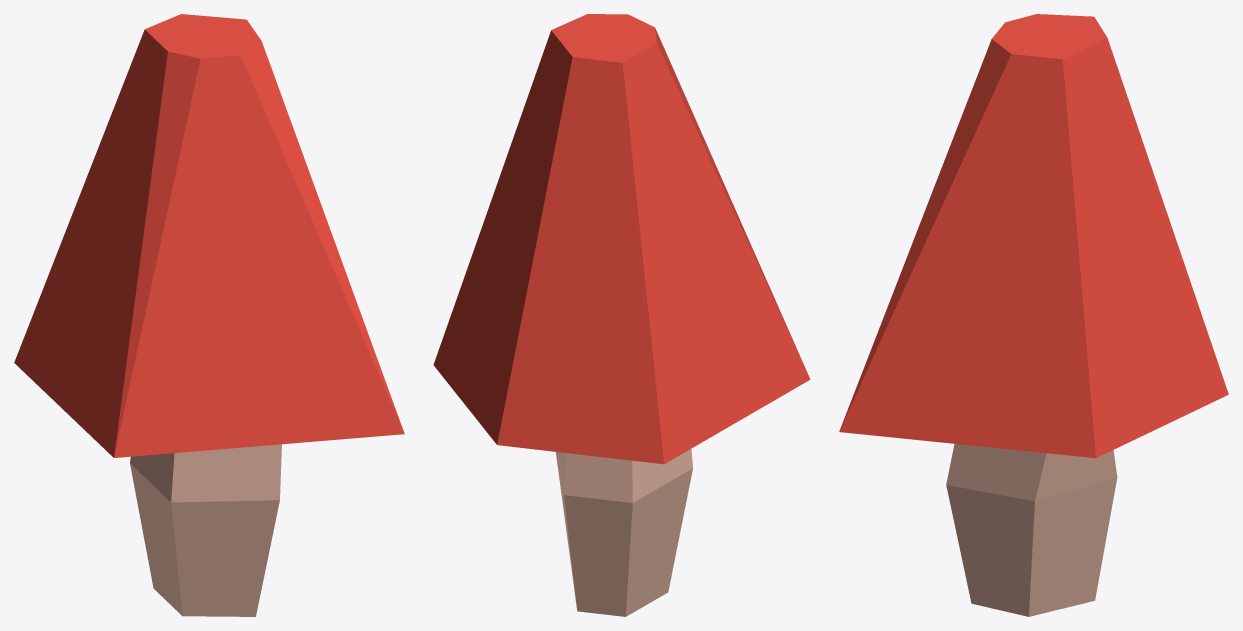
The model's file is Mushroom_03.fbx.
3 views of the same model, side by side, from view 1: azimuth 30°, elevation 25°; view 2: azimuth 150°, elevation 25°; view 3: azimuth 270°, elevation 25° (orthographic).
Visible parts, largest first — view 1: Mushroom_03; view 2: Mushroom_03; view 3: Mushroom_03.
Boxes of the visible parts, <box> form: Mushroom_03: <box>14,14,404,616</box>; Mushroom_03: <box>433,14,810,616</box>; Mushroom_03: <box>839,14,1228,616</box>.
Size of the model in its own units: 42.12 by 75.6 by 47.52.
